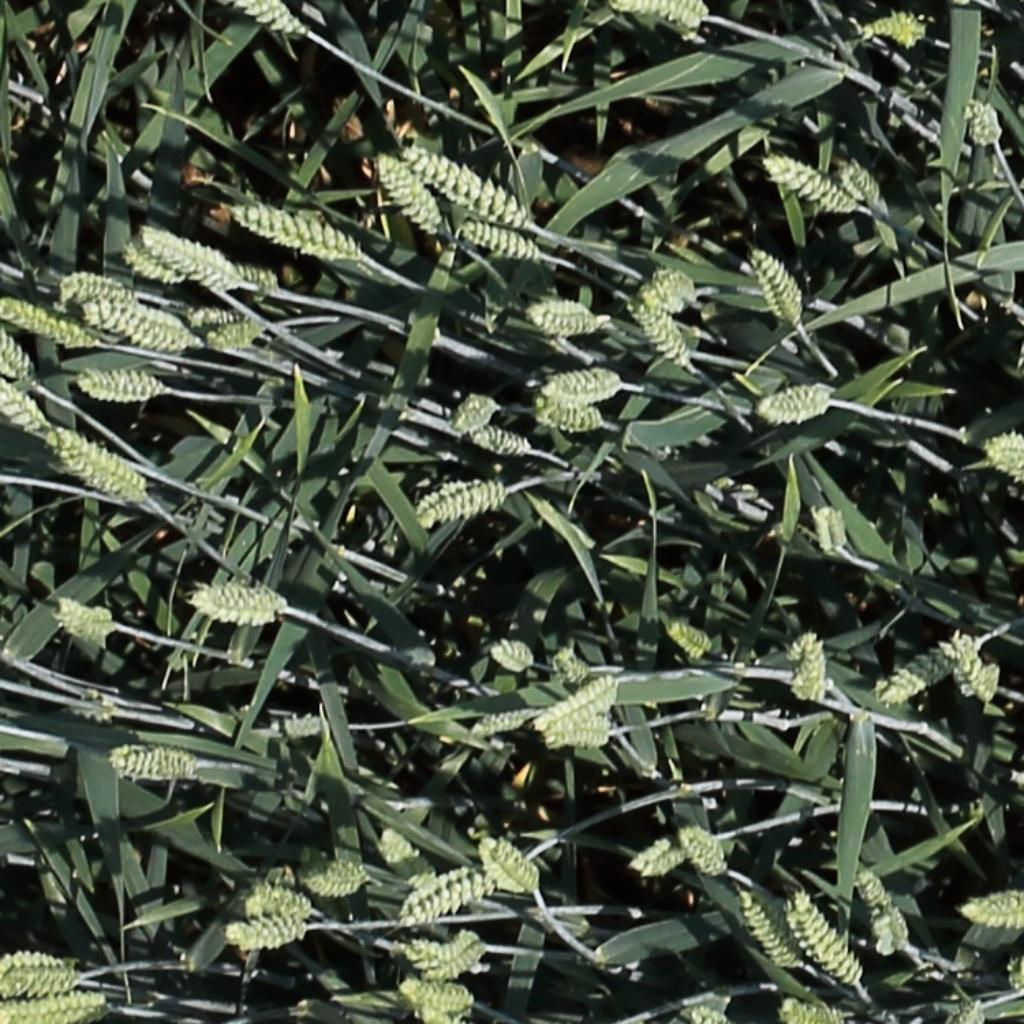0-0: (409, 146, 535, 225), (790, 887, 866, 991), (230, 202, 364, 259), (879, 637, 988, 703), (237, 864, 339, 929), (733, 884, 805, 974), (376, 148, 446, 237), (50, 430, 141, 495), (628, 288, 696, 372), (856, 864, 917, 954), (750, 380, 843, 438), (767, 152, 858, 211), (748, 240, 808, 329), (188, 581, 301, 628), (0, 294, 98, 348), (144, 228, 233, 286), (0, 940, 97, 992), (81, 303, 189, 349), (417, 476, 514, 522), (112, 736, 203, 785), (539, 679, 621, 733), (400, 876, 492, 922), (950, 632, 1000, 712), (479, 838, 543, 897), (0, 378, 49, 455), (55, 264, 141, 307), (529, 293, 609, 337), (406, 933, 483, 976), (638, 261, 699, 315), (460, 219, 544, 258), (838, 152, 892, 212), (215, 253, 285, 299), (402, 975, 480, 1016), (0, 993, 109, 1022), (378, 830, 436, 884), (973, 426, 1024, 485), (534, 368, 618, 403), (166, 305, 246, 341), (215, 924, 305, 955), (54, 600, 114, 645), (860, 10, 935, 46), (542, 719, 612, 757), (678, 827, 731, 877), (77, 376, 164, 406), (241, 0, 307, 39), (121, 240, 180, 282), (795, 628, 826, 707), (304, 854, 364, 894), (430, 934, 483, 979), (962, 887, 1020, 927), (963, 91, 1002, 150), (0, 311, 34, 378), (536, 397, 604, 430), (453, 390, 497, 439), (816, 499, 847, 561), (68, 688, 117, 726), (551, 645, 592, 688), (615, 0, 707, 19), (669, 622, 716, 659), (469, 427, 533, 454), (208, 326, 269, 353), (475, 708, 536, 734), (782, 999, 845, 1024), (632, 838, 675, 873), (644, 851, 689, 879), (950, 993, 988, 1024), (491, 644, 536, 670), (277, 719, 329, 737), (688, 1006, 727, 1024)
